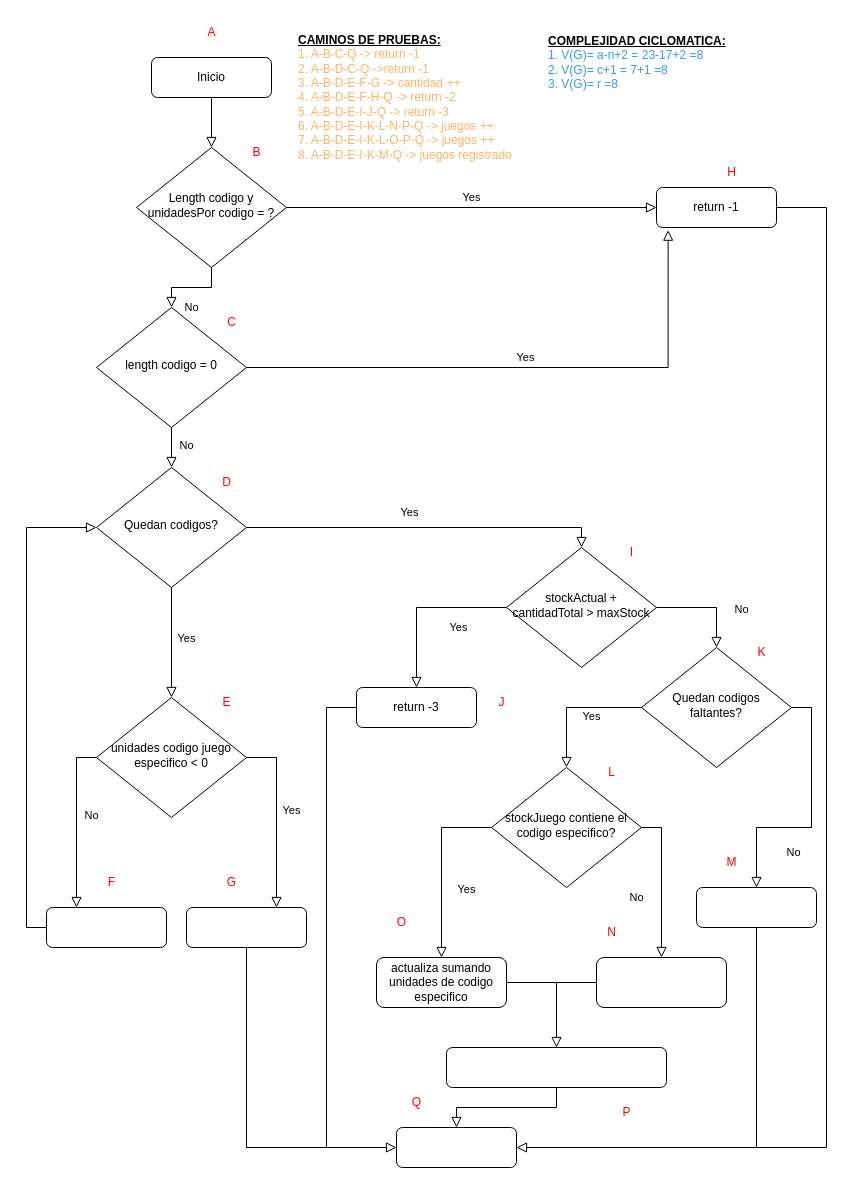
Image size: 854x1185. Some labels were removed from this diagram. Each missing label, with the centre of its shape:
actualiza agregando unidades de codigo especifico: point (661, 982)
cantidad += unidad juego especifico: point (106, 927)
Fin: point (456, 1147)
juegosRegistrado += unidades codigo especifico: point (556, 1067)
return -2: point (246, 927)
return juego registrado: point (756, 907)
